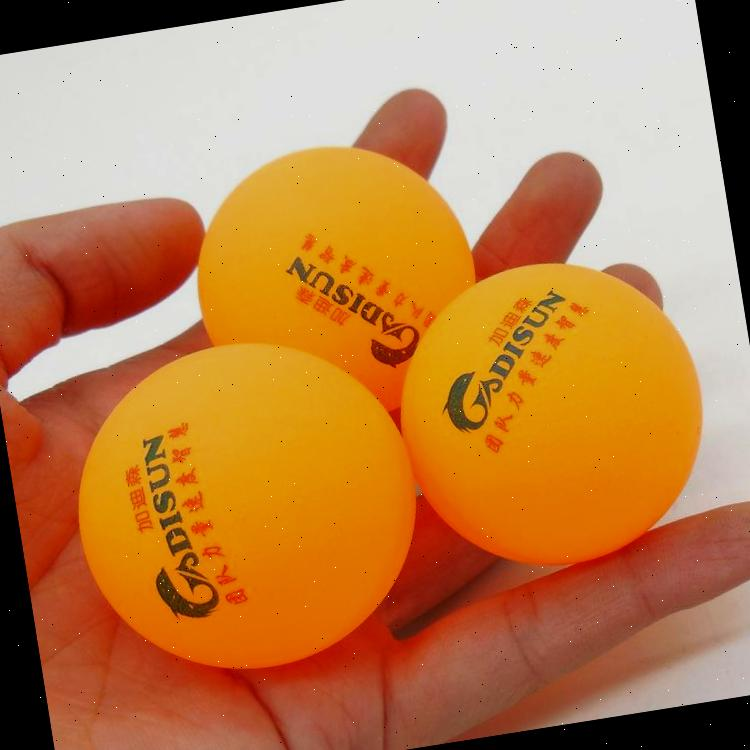ball: (48, 310, 448, 703), (374, 234, 730, 592), (171, 121, 508, 448)
